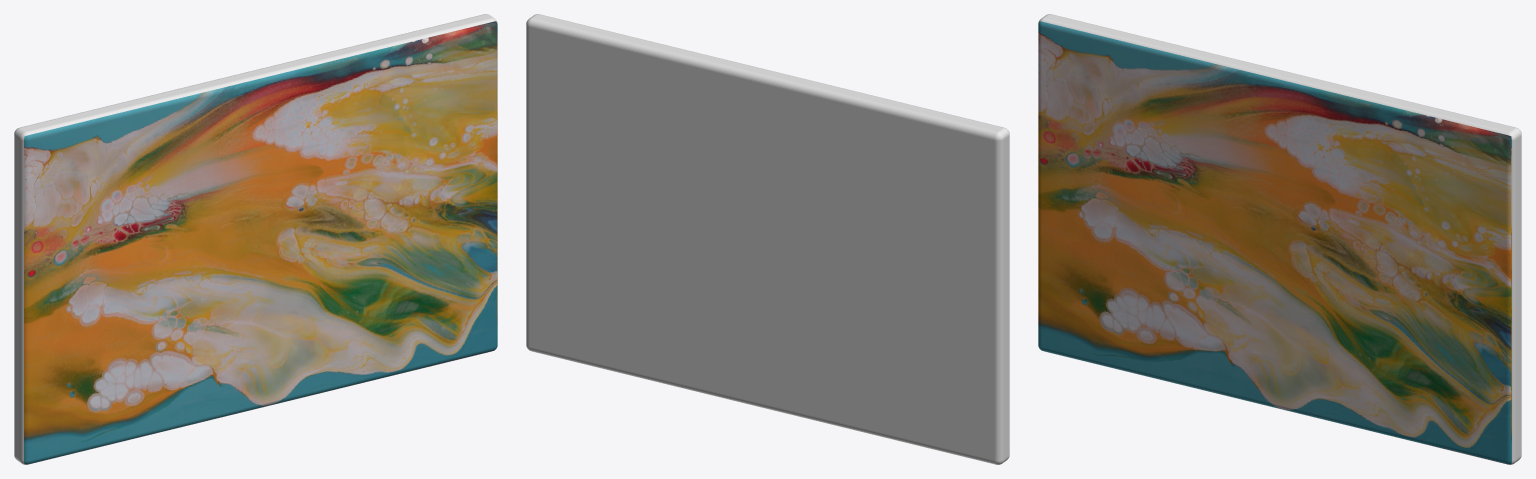
The model's file is picture1.glb.
3 renders of one model, left to right at view 1: azimuth 30°, elevation 25°; view 2: azimuth 150°, elevation 25°; view 3: azimuth 330°, elevation 25°, orthographic.
Visible parts, largest first — view 1: Cube; view 2: Cube; view 3: Cube.
Part boxes in pixels (bbox=[...]): Cube: bbox=[14, 14, 497, 464]; Cube: bbox=[526, 14, 1009, 464]; Cube: bbox=[1038, 14, 1521, 464].
Bounding box in the file's own units: 1.17 × 0.78 × 0.05.
2 materials, 1 textured.
